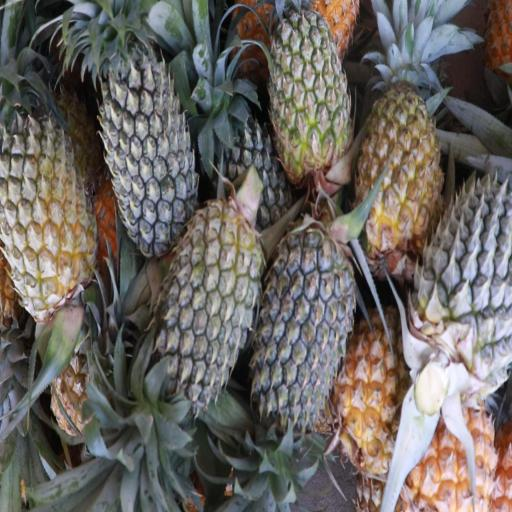------------------------------: (0, 107, 97, 303), (271, 8, 355, 178)
Pineapple - v8 v1: (357, 80, 444, 254), (341, 306, 422, 467), (406, 401, 496, 512)
